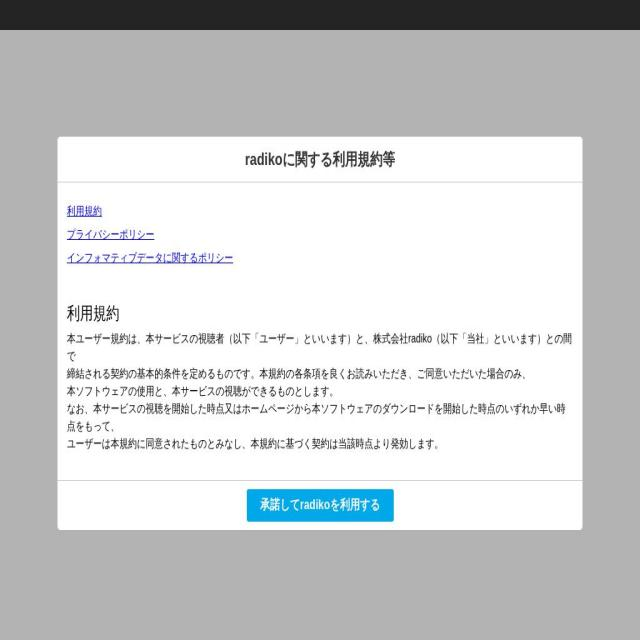button: (246, 489, 394, 522)
heading: (58, 145, 582, 173)
iframe: (58, 183, 582, 474)
image: (0, 0, 640, 640)
